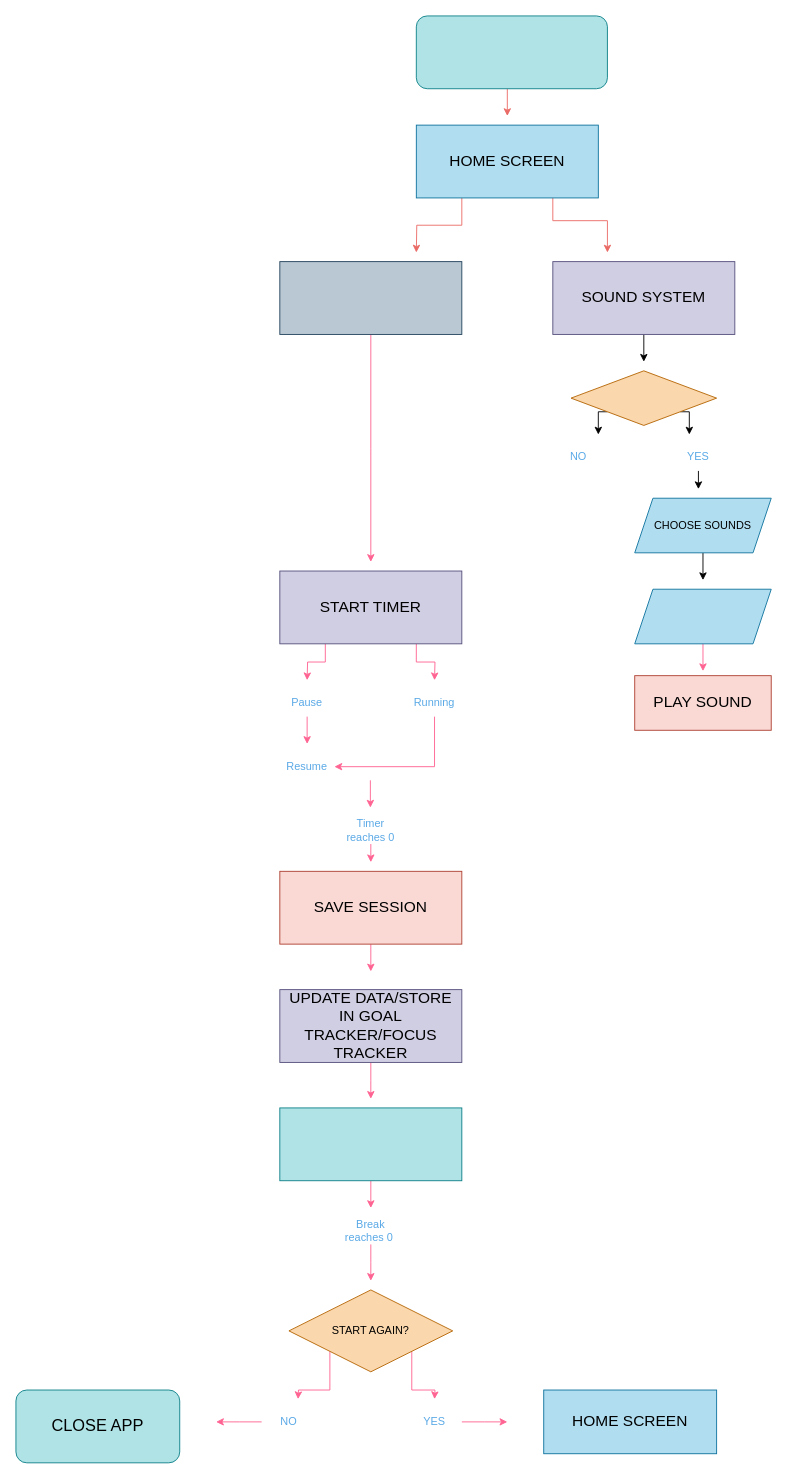
This 787x1479 diagram has some shape labels left out. The centre of each missing label's shape, as x and y in pixels:
"BREAK TIMER" goes at pixel 370 1144.
"CHOOSE VOLUME" goes at pixel 702 616.
"OPEN APP" goes at pixel 511 52.
"SOUND ON?" goes at pixel 643 397.
"TIME SETUP" goes at pixel 370 297.
